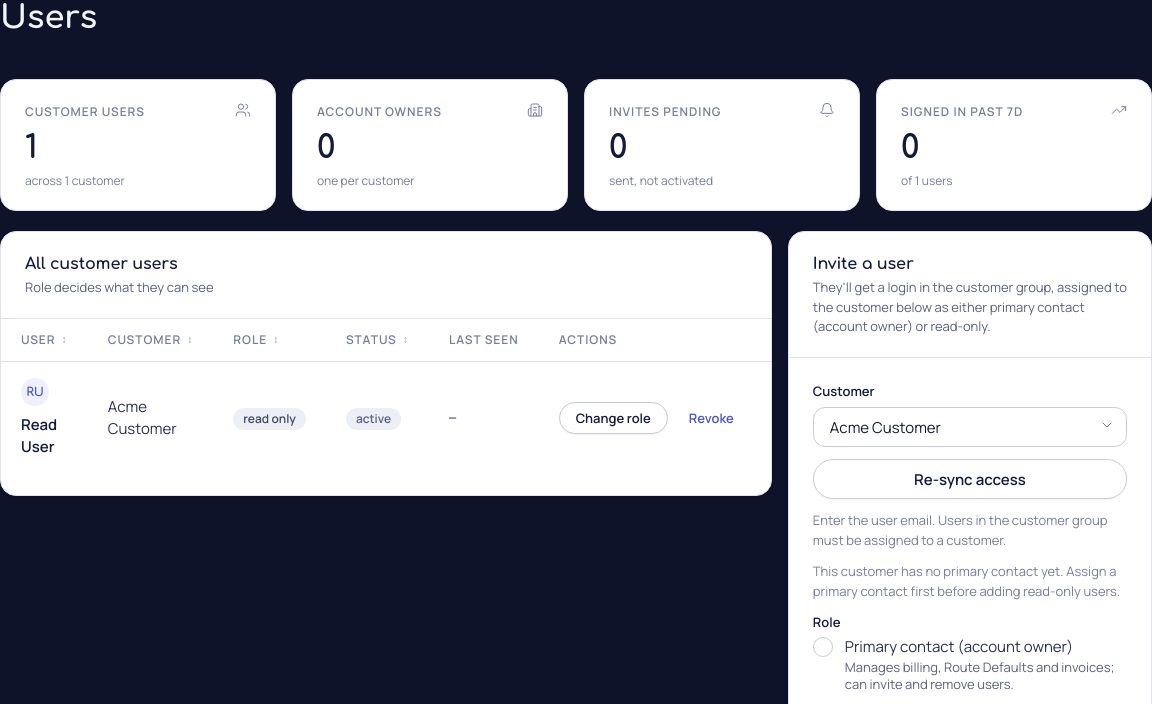
UsersAdminPage customer access actions › promoting to primary contact › syncs the customer access so the Customer record names the new owner
Click the button with aria-label "Change role for Read User".
click(613, 418)  # box [559,402,668,434]
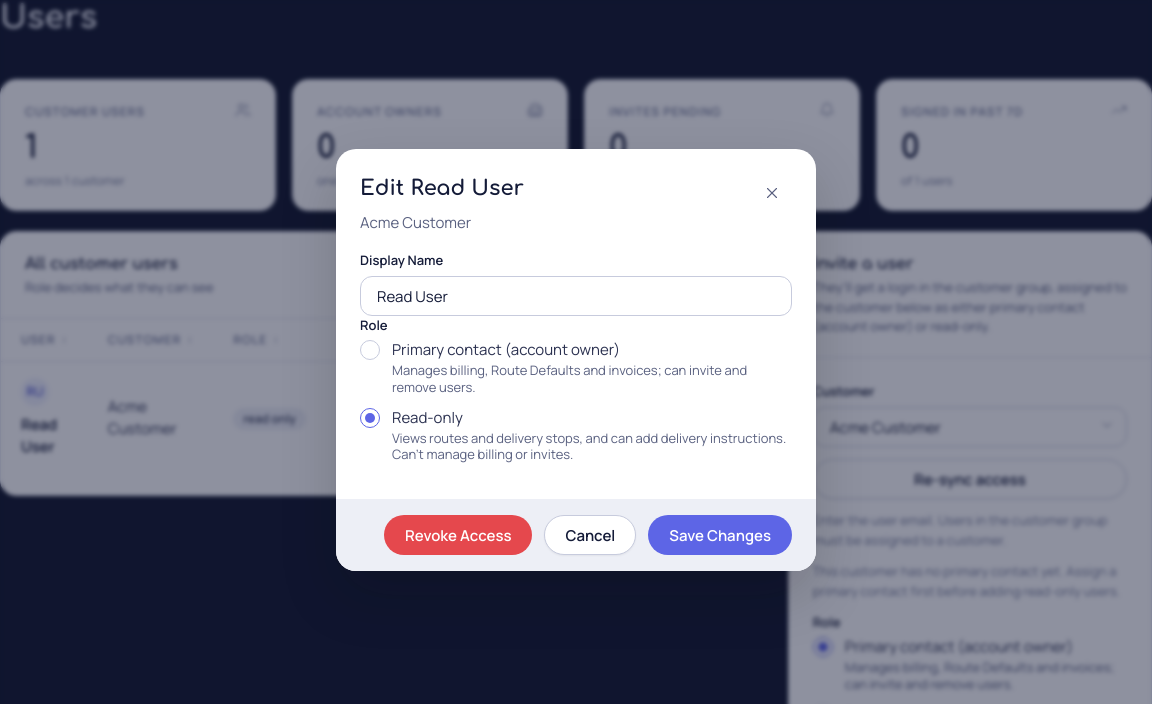
Click the 1st radio button labelled "Primary contact".
click(576, 368)  # box [360,340,792,396]
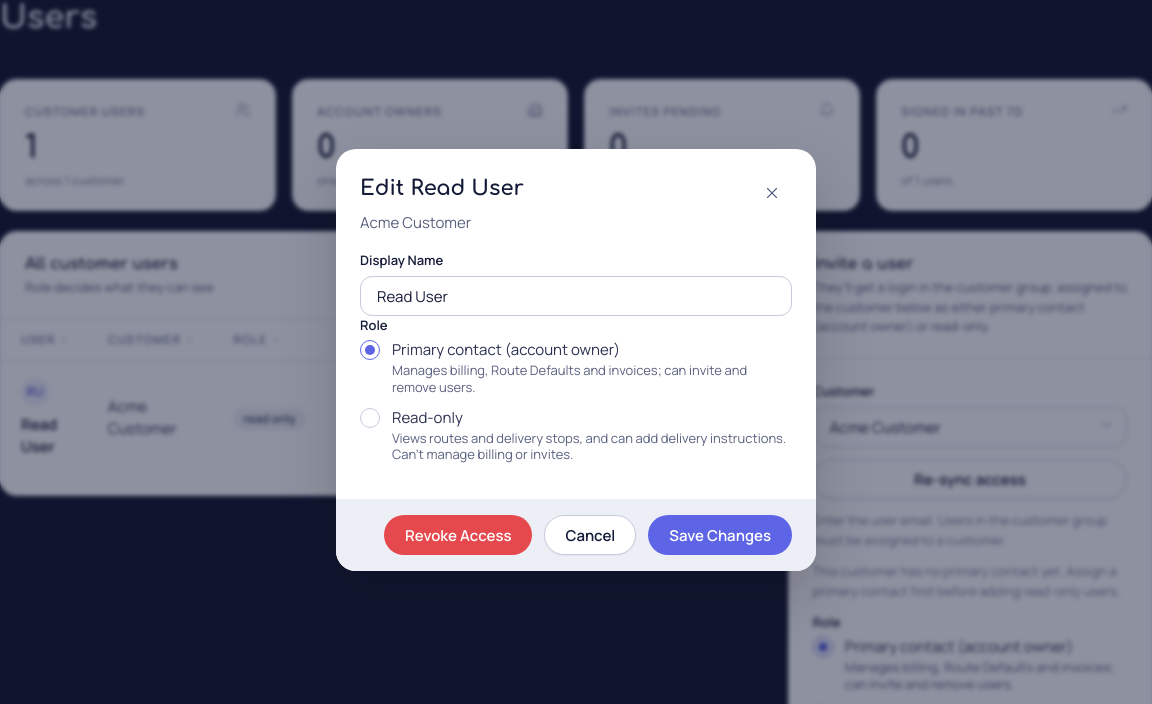
Click the button "Save Changes".
click(720, 535)  # box [648,515,792,555]
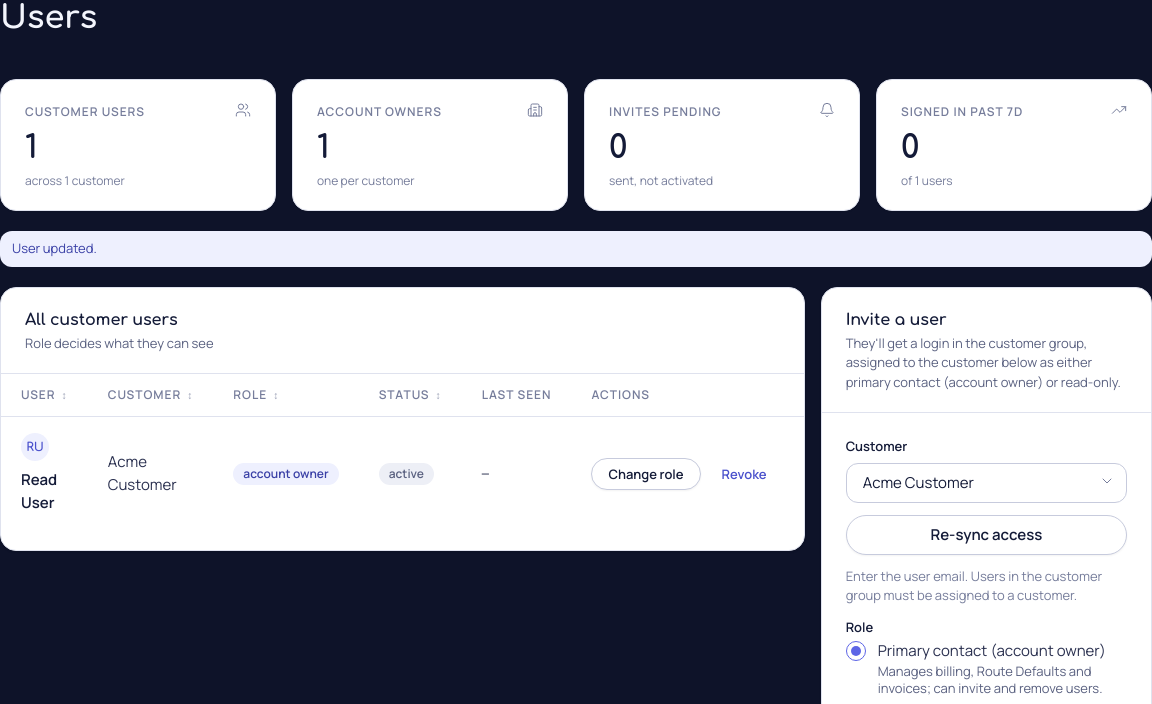
Check: the text "User updated." is shown, box [0,231,1151,267]
